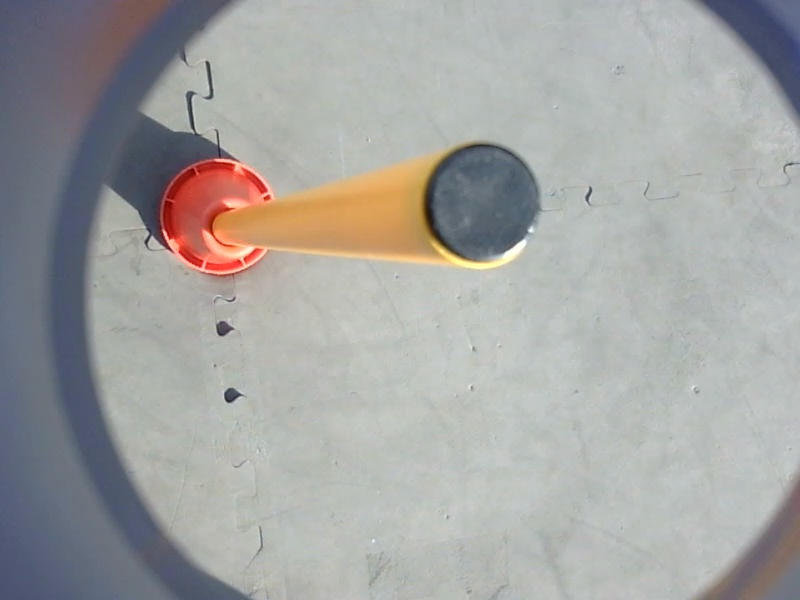tip: (410, 136, 549, 274)
